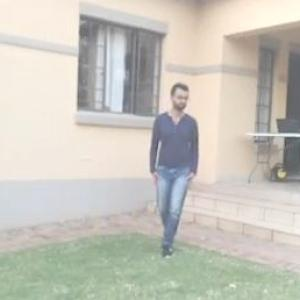follow: (148, 76, 201, 262)
